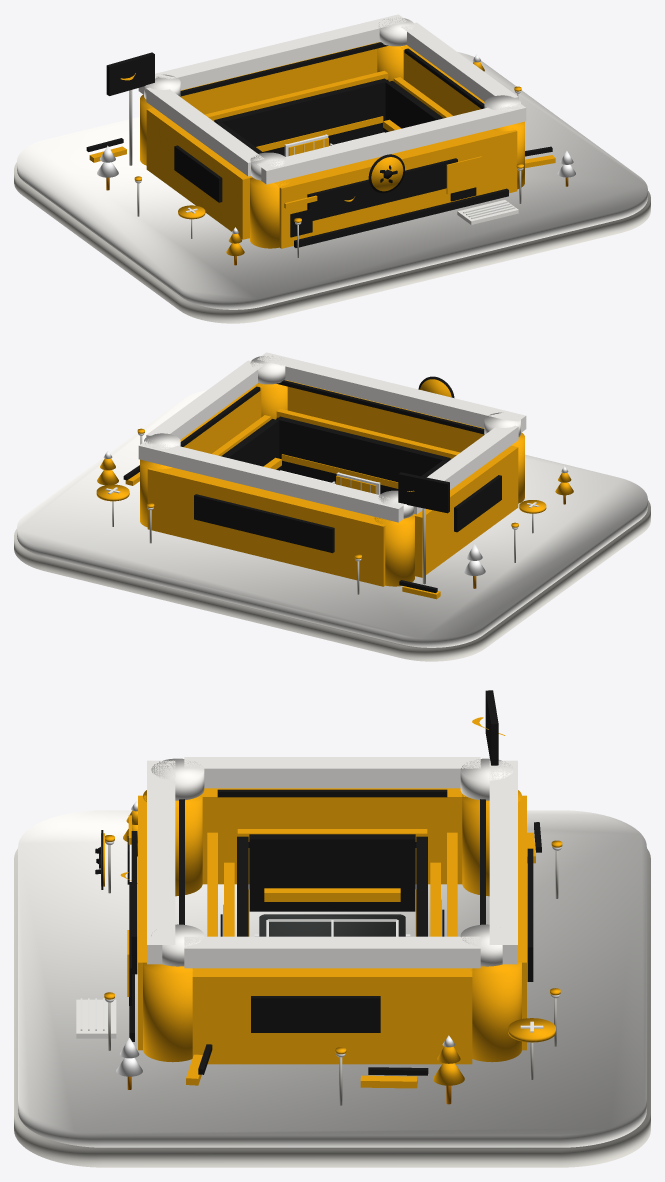
Rendered from zona_soccer.glb.
3 views of the same model, one above another, from view 1: azimuth 30°, elevation 25°; view 2: azimuth 150°, elevation 25°; view 3: azimuth 270°, elevation 25° (orthographic). The views are drawn at different scales.
Visible parts, largest first — view 1: rounded soccer modular platform top, soft grey soccer platform side, front continuous yellow stadium wall, rear black vertical pit wall, front slim white roof bar, left continuous yellow stadium wall, rear slim white roof bar, rear continuous yellow stadium wall, front black stadium facade band, left slim white roof bar, right slim white roof bar, right continuous yellow stadium wall (+20 smaller); view 2: rounded soccer modular platform top, rear continuous yellow stadium wall, soft grey soccer platform side, rear slim white roof bar, front black vertical pit wall, front slim white roof bar, left continuous yellow stadium wall, front continuous yellow stadium wall, rear black stadium facade band, right slim white roof bar, left slim white roof bar, right continuous yellow stadium wall (+13 smaller); view 3: rounded soccer modular platform top, right continuous yellow stadium wall, soft grey soccer platform side, left continuous yellow stadium wall, left black vertical pit wall, right slim white roof bar, left slim white roof bar, front slim white roof bar, rear slim white roof bar, right black stadium facade band, rounded yellow stadium corner.002, rounded yellow stadium corner.003 (+26 smaller).
Boxes of the visible parts, x1,y1,x2,y2 form: rounded soccer modular platform top: (17, 52, 647, 309); soft grey soccer platform side: (14, 162, 650, 323); front continuous yellow stadium wall: (274, 128, 517, 248); rear black vertical pit wall: (214, 78, 388, 155); front slim white roof bar: (257, 102, 526, 184); left continuous yellow stadium wall: (146, 107, 251, 239); rear slim white roof bar: (138, 14, 407, 94); rear continuous yellow stadium wall: (180, 42, 379, 114); front black stadium facade band: (307, 158, 457, 220); left slim white roof bar: (146, 87, 264, 176); right slim white roof bar: (401, 22, 518, 101); right continuous yellow stadium wall: (401, 45, 484, 115); rounded soccer modular platform top: (17, 390, 647, 647); rear continuous yellow stadium wall: (147, 463, 390, 586); soft grey soccer platform side: (14, 500, 650, 661); rear slim white roof bar: (138, 439, 404, 522); front black vertical pit wall: (276, 416, 450, 493); front slim white roof bar: (257, 352, 526, 432); left continuous yellow stadium wall: (413, 445, 518, 577); front continuous yellow stadium wall: (285, 380, 484, 452); rear black stadium facade band: (194, 494, 334, 553); right slim white roof bar: (146, 360, 264, 439); left slim white roof bar: (414, 425, 518, 514); right continuous yellow stadium wall: (180, 383, 263, 453); rounded soccer modular platform top: (18, 810, 646, 1147); right continuous yellow stadium wall: (192, 968, 472, 1064); soft grey soccer platform side: (14, 848, 650, 1167); left continuous yellow stadium wall: (198, 788, 466, 884); left black vertical pit wall: (249, 834, 415, 911); right slim white roof bar: (184, 936, 480, 968); left slim white roof bar: (184, 757, 480, 788); front slim white roof bar: (147, 760, 175, 964); rear slim white roof bar: (489, 760, 517, 964); right black stadium facade band: (251, 996, 380, 1032); rounded yellow stadium corner.002: (143, 962, 193, 1062); rounded yellow stadium corner.003: (471, 962, 521, 1062).
Bounding box in the file's own units: 4.67 × 1.3 × 3.83.
